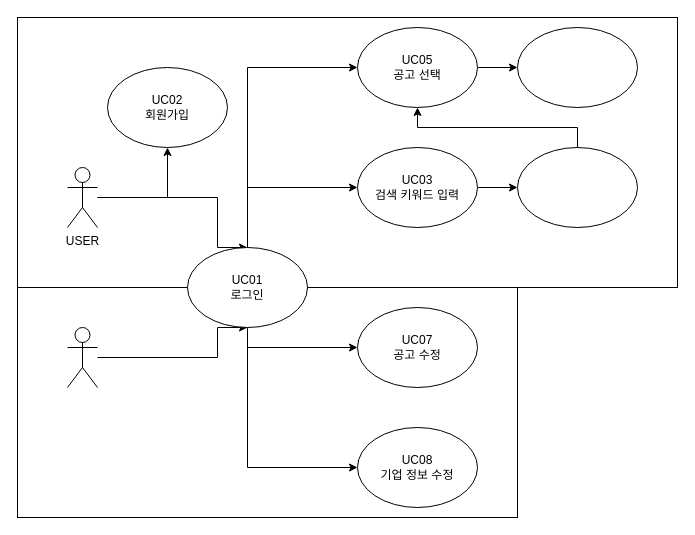
Some shapes in this 695 by 535 pixel diagram are drawn without their labels. Each missing label, with the centre of its shape:
COMPANY: (x=82, y=357)
UC04 상세 검색: (x=577, y=187)
UC06 기업 정보 조회: (x=577, y=67)
